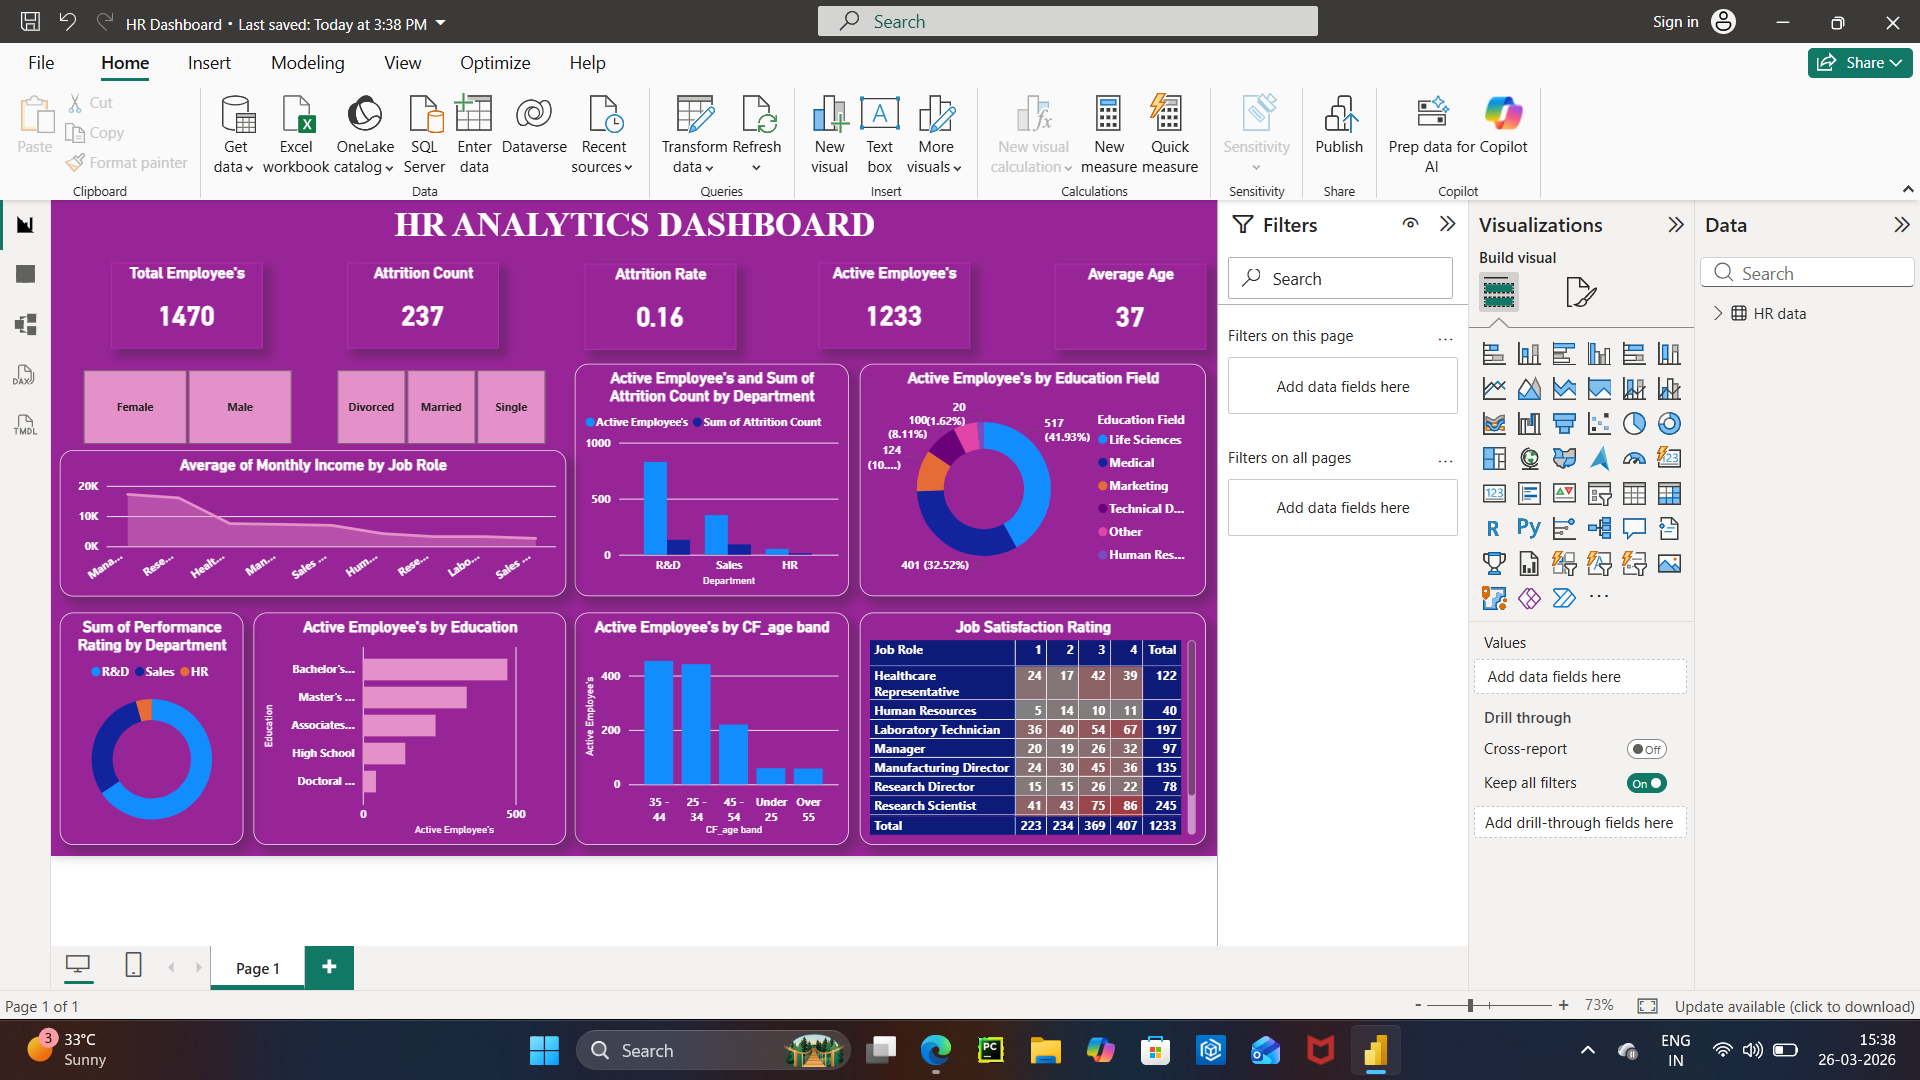

What the dashboard file says about the page in this screenshot:
{"tool":"powerbi","page":{"name":"Page 1","canvas":[1280,720],"ordinal":0},"visuals":[{"type":"card","title":"Total Employee''s","fields":{"Values":["Sum(HR data.Employee Count)"]},"box":[65.9,68.6,166,94.7],"z":0,"group":"g1"},{"type":"clusteredColumnChart","fields":{"Category":["HR data.Department"],"Y":["HR data.Active Employee's","Sum(HR data.Attrition Count)"]},"box":[575,179.8,300.5,255.2],"z":0},{"type":"card","title":"Attrition Count","fields":{"Values":["Sum(HR data.Attrition Count)"]},"box":[324.9,68.6,166,94.7],"z":1000,"group":"g1"},{"type":"donutChart","fields":{"Y":["HR data.Active Employee's"],"Category":["HR data.Education Field"]},"box":[887.8,179.8,380.1,255.2],"z":1000},{"type":"card","title":"Attrition Rate","fields":{"Values":["HR data.Attrition Rate"]},"box":[586.2,69.5,166,94.7],"z":2000,"group":"g1"},{"type":"columnChart","fields":{"Y":["HR data.Active Employee's"],"Category":["HR data.CF_age band"]},"box":[575,452.8,300.5,255.2],"z":2000},{"type":"card","title":"Active Employee''s","fields":{"Values":["HR data.Active Employee's"]},"box":[842.9,68.6,166,94.7],"z":3000,"group":"g1"},{"type":"pivotTable","title":"Job Satisfaction Rating","fields":{"Rows":["HR data.Job Role"],"Columns":["HR data.Job Satisfaction"],"Values":["HR data.Active Employee's"]},"box":[887.8,452.8,380.1,255.2],"z":3000},{"type":"card","title":"Average Age","fields":{"Values":["Avg(HR data.Age)"]},"box":[1101.9,70,166,94.7],"z":4000,"group":"g1"},{"type":"donutChart","fields":{"Y":["Sum(HR data.Performance Rating)"],"Category":["HR data.Department"]},"box":[9.6,452.8,201.7,255.2],"z":4000},{"type":"clusteredBarChart","fields":{"Category":["HR data.Education"],"Y":["HR data.Active Employee's"]},"box":[222.3,452.8,343.1,255.2],"z":5000},{"type":"areaChart","fields":{"Category":["HR data.Job Role"],"Y":["Avg(HR data.Monthly Income)"]},"box":[9.6,274.4,555.7,160.5],"z":6000},{"type":"slicer","fields":{"Values":["HR data.Gender"]},"box":[9.6,179.8,278.6,94.7],"z":7000},{"type":"slicer","fields":{"Values":["HR data.Marital Status"]},"box":[288.2,179.8,278.6,94.7],"z":8000},{"type":"group","id":"g1","title":"Group 1","box":[65.9,68.6,1202.1,96.1],"z":9000},{"type":"textbox","box":[1.4,0,1278.9,64.5],"z":10000}]}

Visuals, with their boxes on the page's 1280x720 design canvas (x1, y1, x2, y2). These are canvas units, not pixel positions in the 1920x1080 screenshot, which may show the page scaled, cropped or inside an application window:
"Total Employee''s" card: 66,69,232,163
clusteredColumnChart - HR data.Department x HR data.Active Employee's: 575,180,876,435
"Attrition Count" card: 325,69,491,163
donutChart - HR data.Active Employee's x HR data.Education Field: 888,180,1268,435
"Attrition Rate" card: 586,70,752,164
columnChart - HR data.Active Employee's x HR data.CF_age band: 575,453,876,708
"Active Employee''s" card: 843,69,1009,163
"Job Satisfaction Rating" pivotTable: 888,453,1268,708
"Average Age" card: 1102,70,1268,165
donutChart - Sum(HR data.Performance Rating) x HR data.Department: 10,453,211,708
clusteredBarChart - HR data.Education x HR data.Active Employee's: 222,453,565,708
areaChart - HR data.Job Role x Avg(HR data.Monthly Income): 10,274,565,435
slicer - HR data.Gender: 10,180,288,274
slicer - HR data.Marital Status: 288,180,567,274
"Group 1" group: 66,69,1268,165
textbox: 1,0,1280,64
